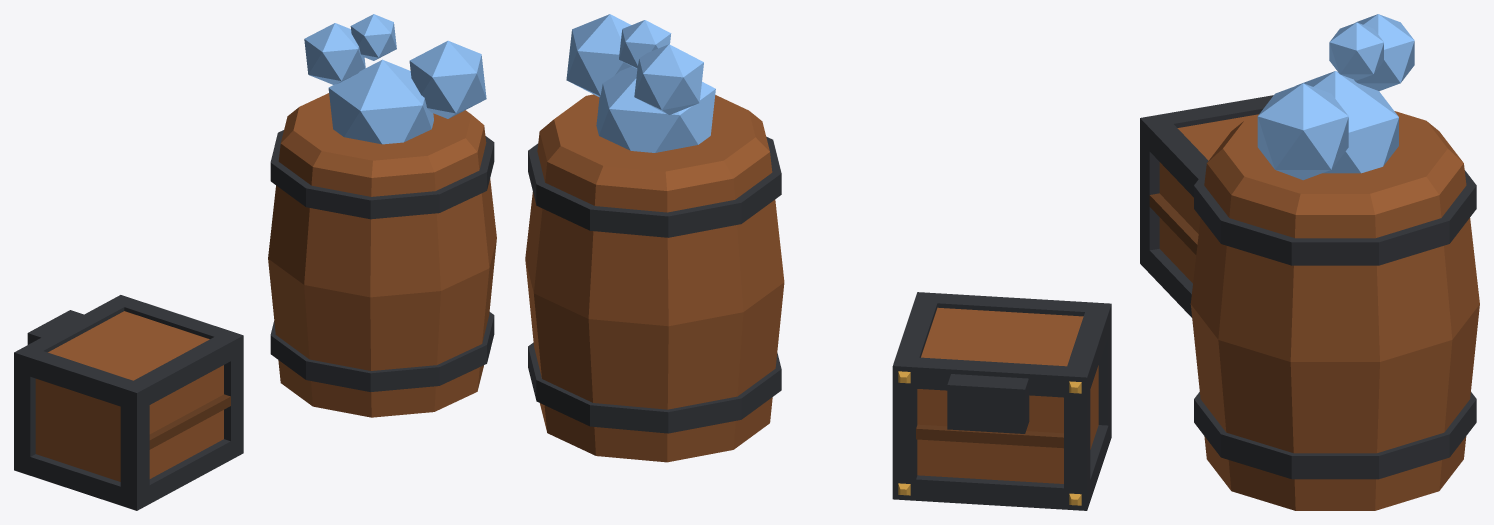
The model's file is BubbleKit4.obj.
3 views of the same model, side by side, from view 1: azimuth 30°, elevation 25°; view 2: azimuth 150°, elevation 25°; view 3: azimuth 270°, elevation 25° (orthographic). The views are drawn at different scales.
Visible parts, largest first — view 1: BubbleKit4; view 2: BubbleKit4; view 3: BubbleKit4.
Part boxes in pixels (box(x1,y1,x2,y2)): BubbleKit4: box(14, 14, 496, 510); BubbleKit4: box(525, 14, 1111, 510); BubbleKit4: box(1140, 14, 1479, 510).
Bounding box in the file's own units: 0.628 × 0.45 × 0.3174.
